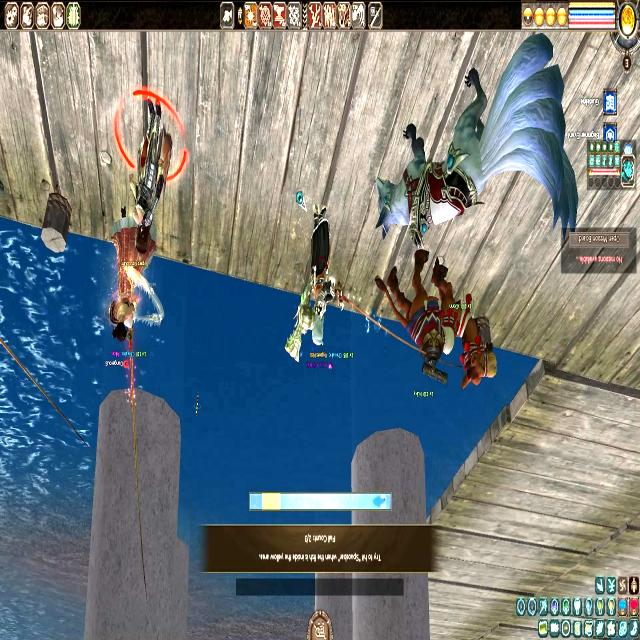fishes: (372, 494, 386, 509)
